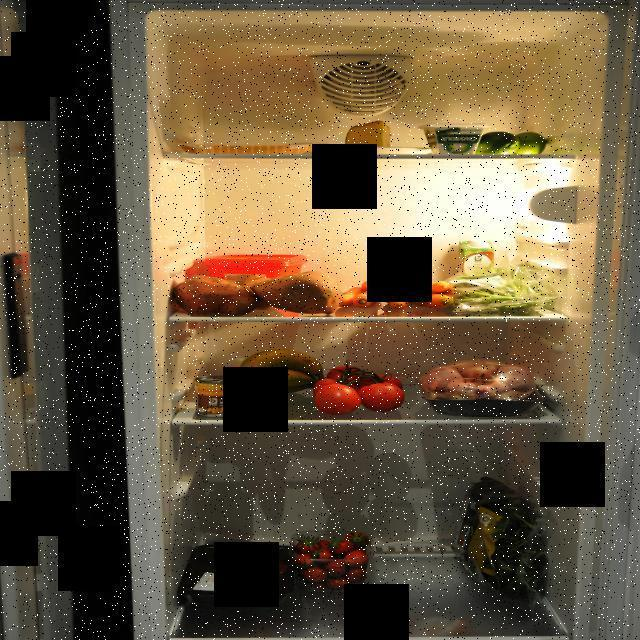banana: (218, 348, 322, 406)
beef: (186, 542, 284, 610)
butter: (195, 247, 308, 291)
carrot: (334, 274, 459, 314), (340, 121, 394, 151)
chicken breast: (416, 358, 546, 416)
corn: (198, 372, 250, 418)
goat_cheese: (423, 118, 487, 156)
green_beans: (446, 260, 554, 316)
ham: (171, 140, 313, 156)
heavy_cream: (457, 238, 498, 296)
lime: (472, 131, 555, 155)
spinach: (458, 469, 558, 619)
strawberries: (290, 526, 376, 594)
sweet_potato: (170, 266, 336, 320)
tomato: (311, 355, 409, 417)
